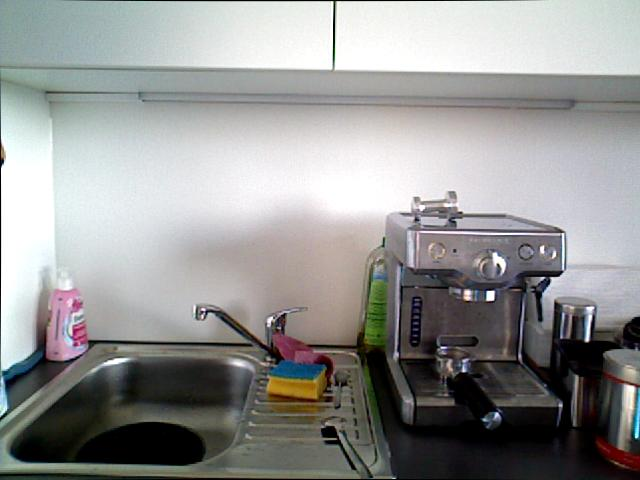bench: (40, 260, 94, 366), (356, 236, 388, 352)
couch: (1, 347, 259, 474)
toilet: (314, 412, 393, 480), (330, 365, 349, 413)
